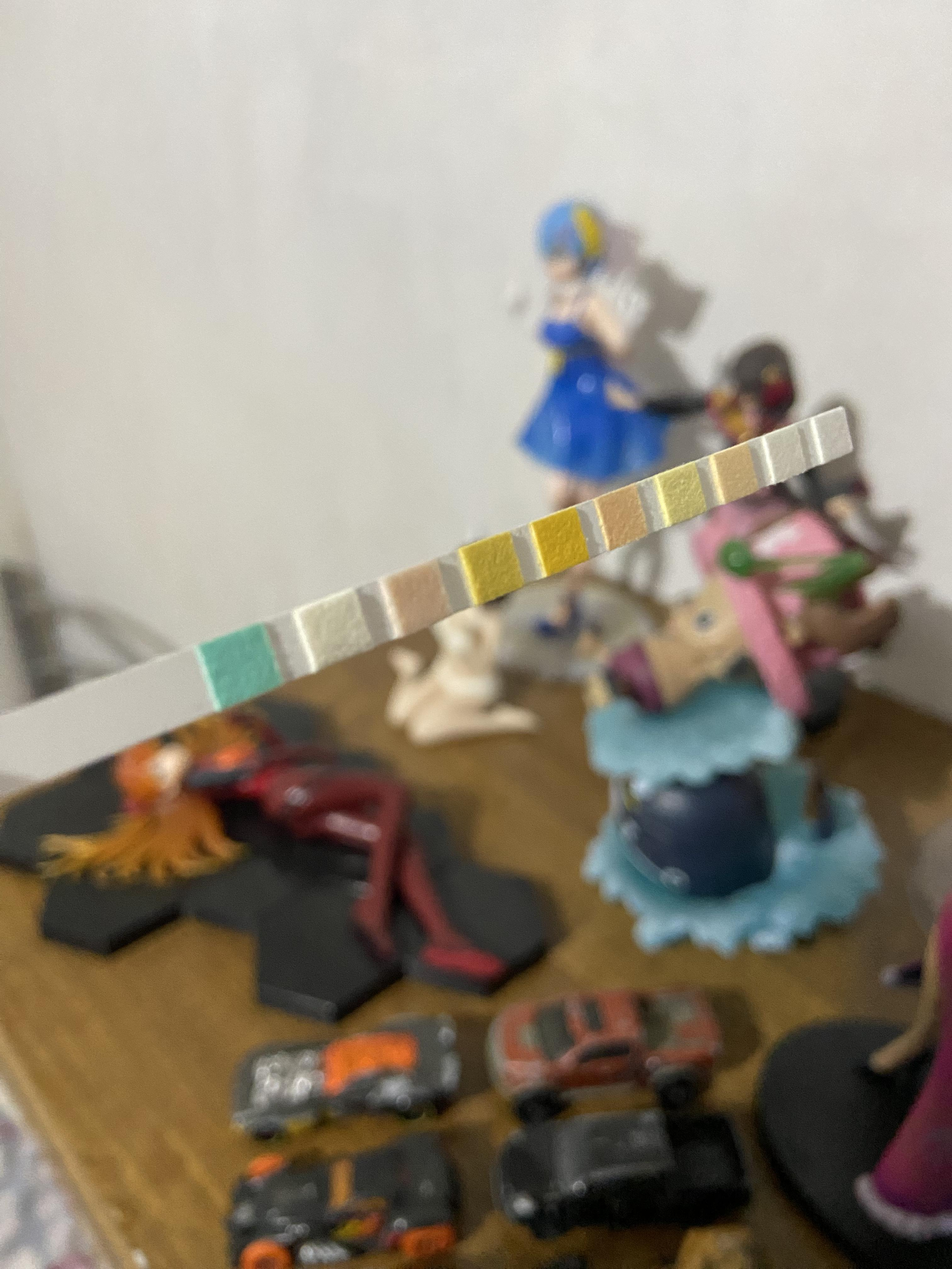Bilirubin: (315, 607, 359, 653)
Blood: (545, 520, 579, 562)
Glucose: (216, 642, 269, 689)
Ketone: (400, 576, 441, 622)
Leukocytes: (823, 415, 845, 456)
Nitrite: (775, 433, 800, 473)
Protein: (669, 473, 698, 513)
SpGravity: (479, 548, 514, 590)
Urobilinogen: (726, 452, 752, 492)
pH: (610, 494, 642, 537)
strip: (1, 407, 856, 804)
